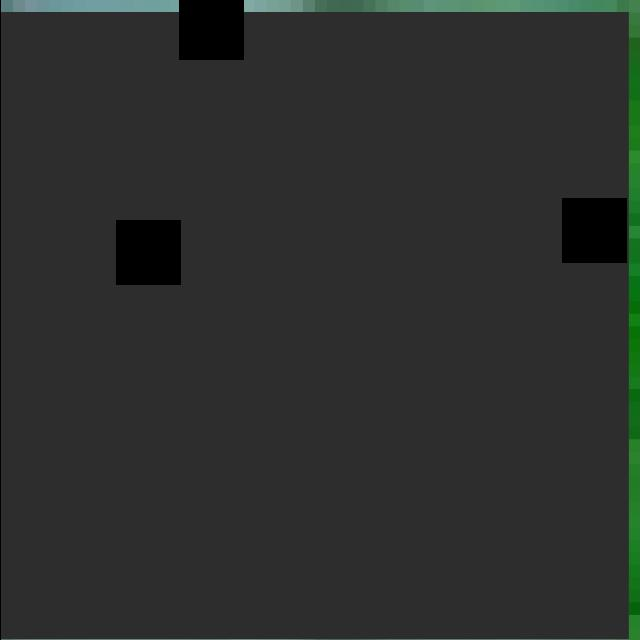nofire: (0, 12, 628, 640)
